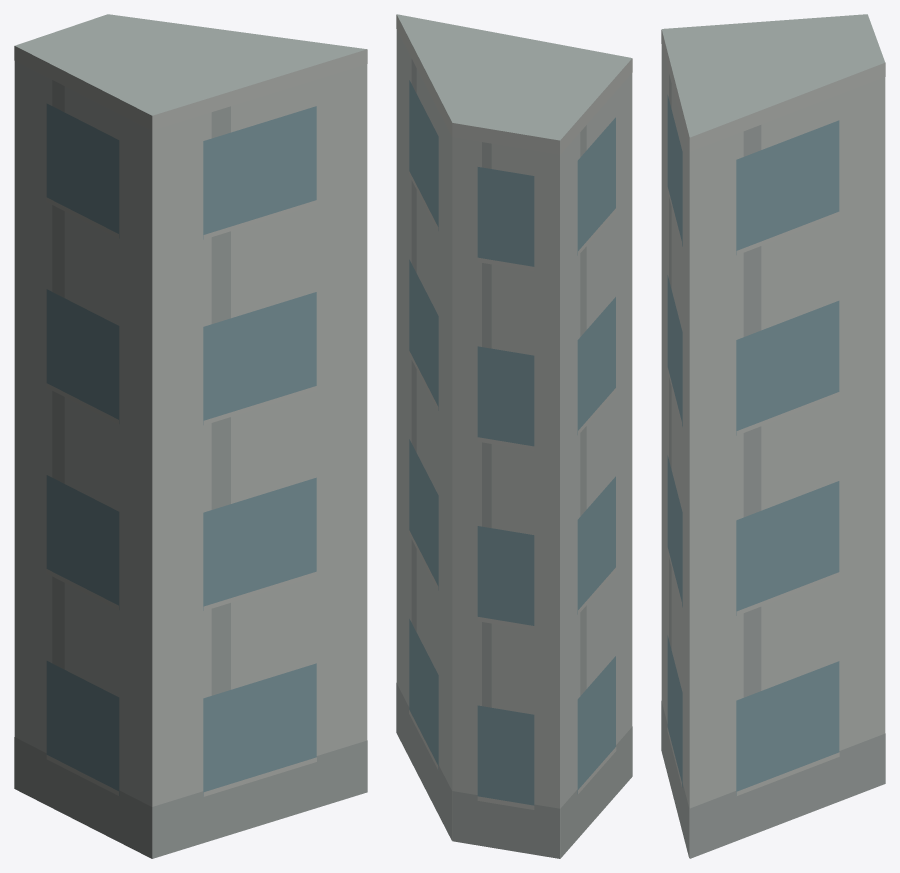
File: survey-upis-32902983.glb
The picture shows the model from 3 angles, left to right: view 1: azimuth 30°, elevation 25°; view 2: azimuth 150°, elevation 25°; view 3: azimuth 270°, elevation 25°; orthographic projection. The views are drawn at different scales.
Visible parts, largest first — view 1: survey-upis-32902983.tmp; view 2: survey-upis-32902983.tmp; view 3: survey-upis-32902983.tmp.
Part boxes in pixels (x1,y1,x2,y2): survey-upis-32902983.tmp: [14, 14, 367, 858]; survey-upis-32902983.tmp: [396, 14, 632, 858]; survey-upis-32902983.tmp: [661, 14, 885, 858].
Size of the model in its own units: 4.49 by 12.2 by 3.44.
